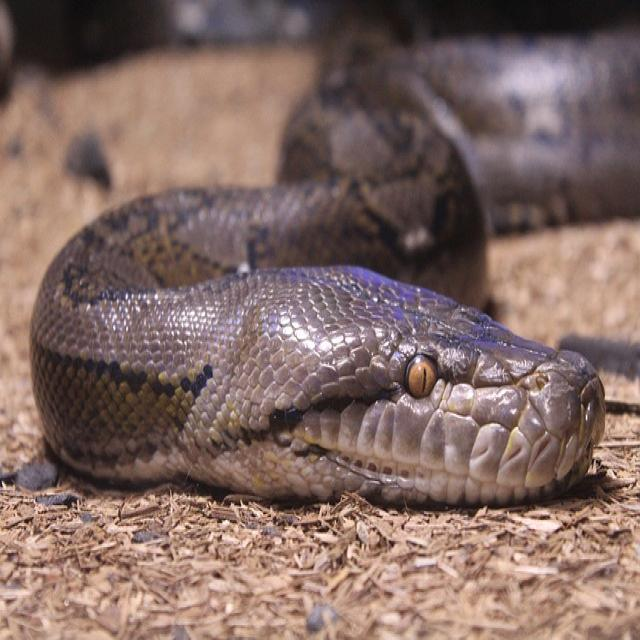Carnivorous: (29, 40, 640, 513)
